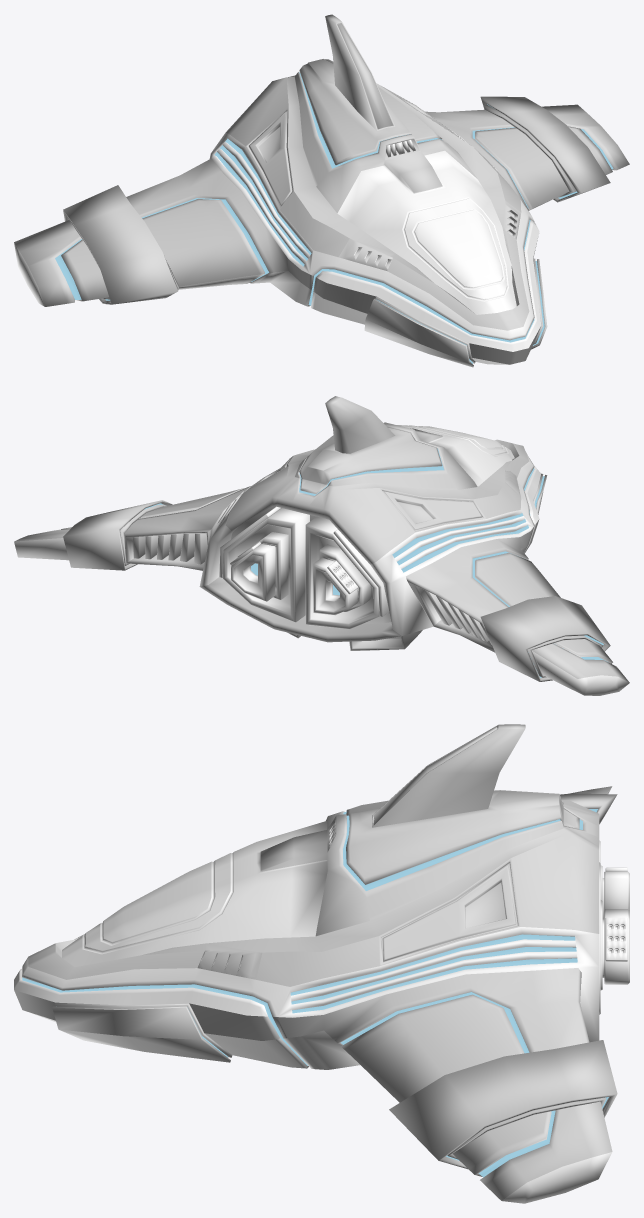
File: Spaceship.glb
The picture shows the model from 3 angles, top to bottom: view 1: azimuth 30°, elevation 25°; view 2: azimuth 150°, elevation 25°; view 3: azimuth 270°, elevation 25°; orthographic projection. The views are drawn at different scales.
Visible parts, largest first — view 1: Spaceship; view 2: Spaceship; view 3: Spaceship.
Boxes of the visible parts, left/top/right/bottom form: Spaceship: left=14, top=14, right=629, bottom=367; Spaceship: left=14, top=396, right=629, bottom=695; Spaceship: left=14, top=724, right=629, bottom=1203.
Size of the model in its own units: 10.66 by 4.14 by 7.31.
